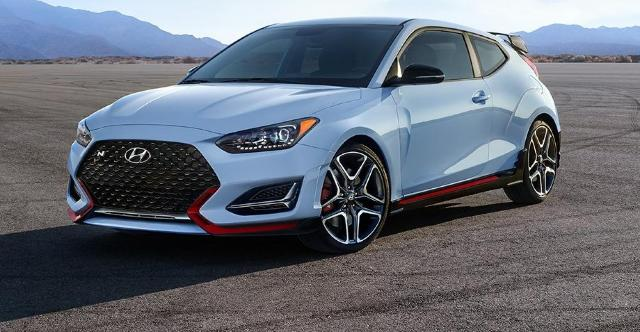hyundai: (66, 16, 562, 252)
